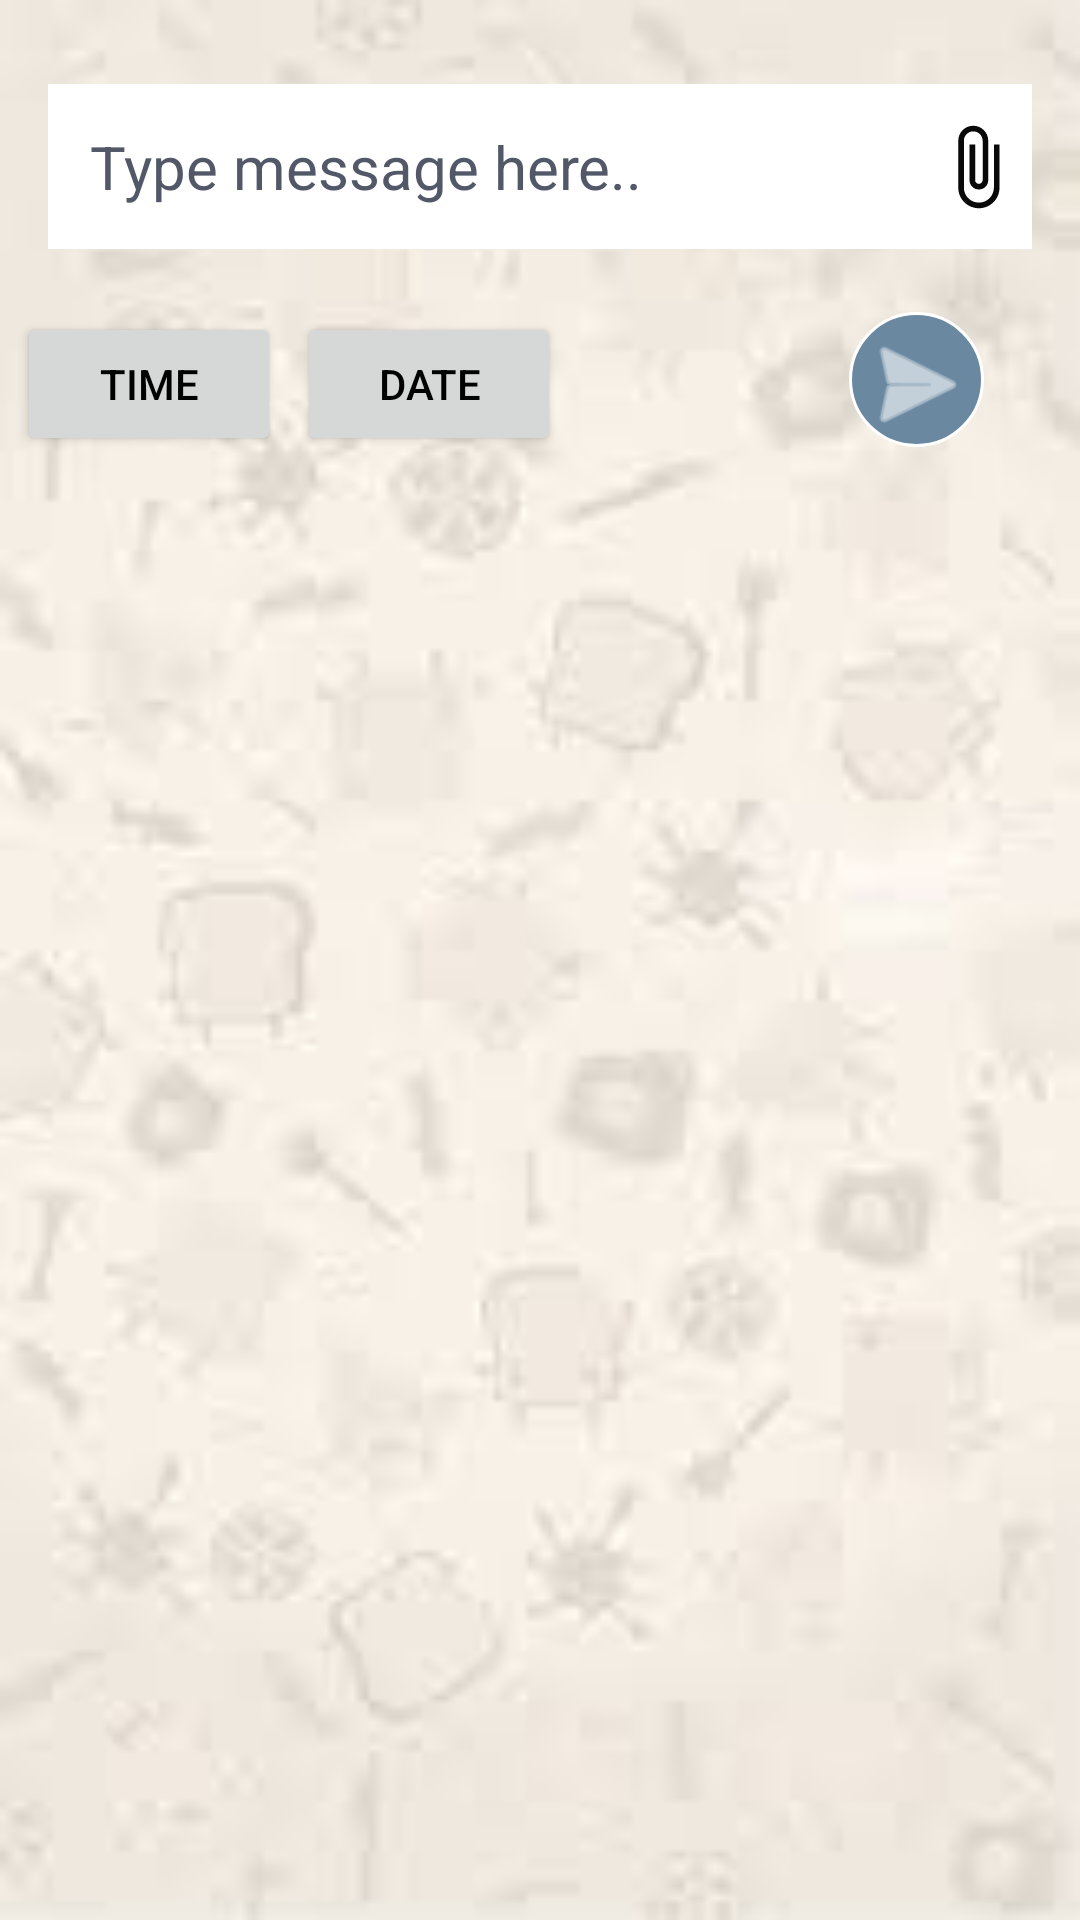

Screen size 1080 x 1920. Icon name, then its center in pixels as (x=x, y=y):
attach file: (x=979, y=167)
